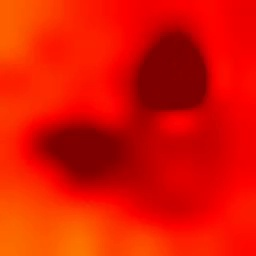person: (48, 129, 202, 197)
